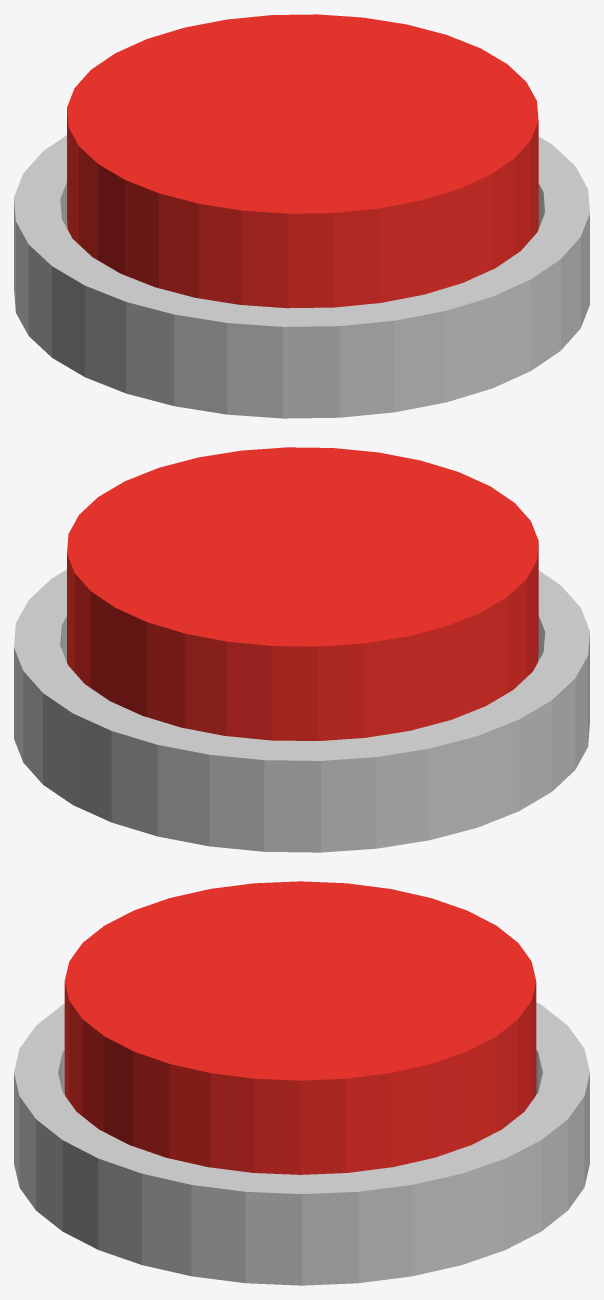
3 renders of one model, top to bottom at view 1: azimuth 30°, elevation 25°; view 2: azimuth 150°, elevation 25°; view 3: azimuth 270°, elevation 25°, orthographic.
Parts seen in each view (by area): view 1: Cylinder.001, Cylinder.003; view 2: Cylinder.001, Cylinder.003; view 3: Cylinder.001, Cylinder.003.
Boxes of the visible parts, left/top/right/bottom form: Cylinder.001: left=67, top=14, right=538, bottom=308; Cylinder.003: left=14, top=135, right=589, bottom=418; Cylinder.001: left=67, top=447, right=538, bottom=740; Cylinder.003: left=14, top=569, right=589, bottom=852; Cylinder.001: left=64, top=881, right=536, bottom=1174; Cylinder.003: left=14, top=1002, right=589, bottom=1285.
Bounding box in the file's own units: 188 × 65.85 × 188.
